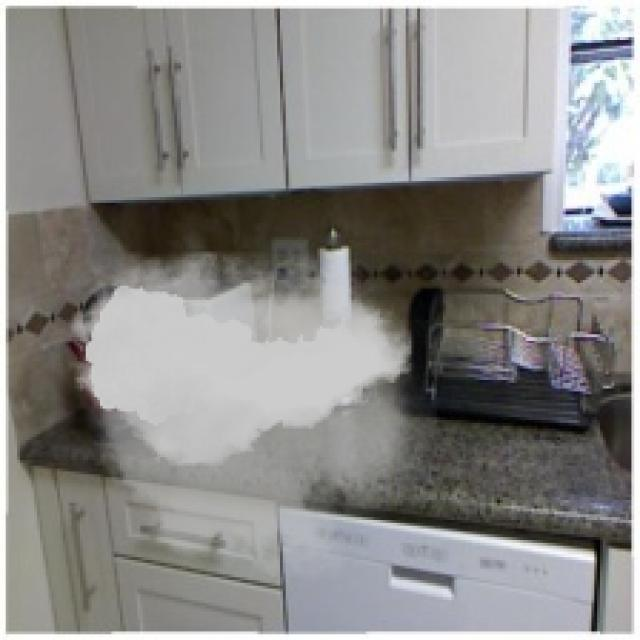Smoke: (60, 223, 437, 600)
